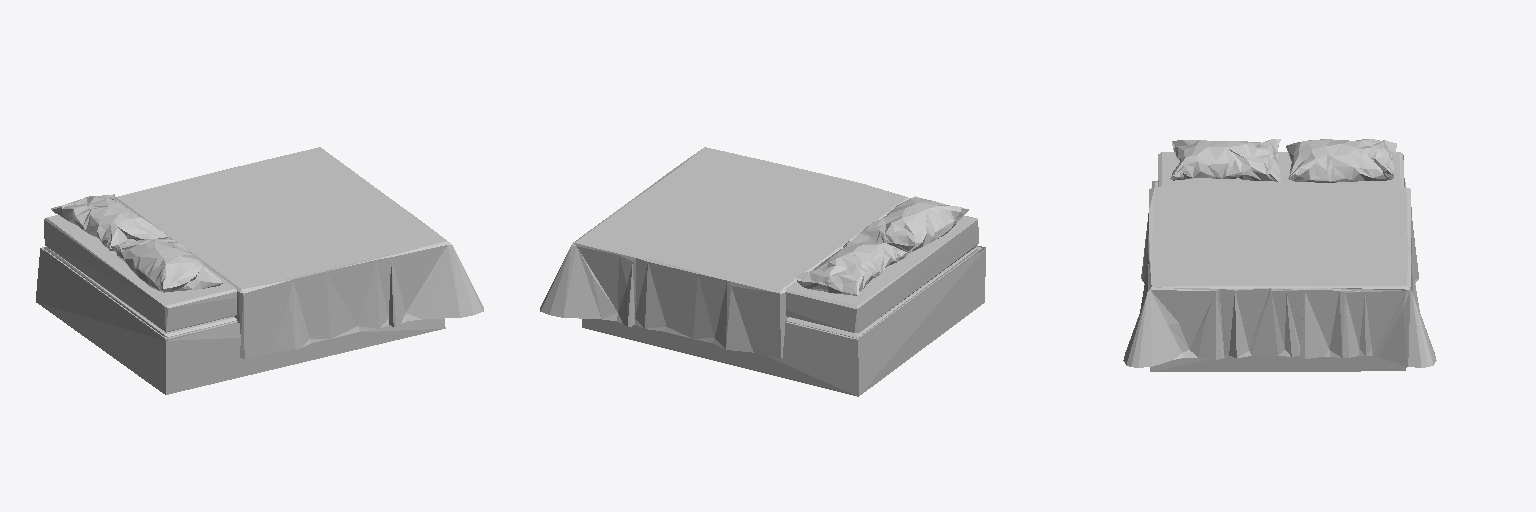
3 renders of one model, left to right at view 1: azimuth 30°, elevation 25°; view 2: azimuth 150°, elevation 25°; view 3: azimuth 270°, elevation 25°, orthographic.
Parts seen in each view (by area): view 1: bed; view 2: bed; view 3: bed.
Boxes of the visible parts, <box> form: bed: <box>36,147,483,394</box>; bed: <box>540,147,985,396</box>; bed: <box>1123,139,1436,371</box>.
Bounding box in the file's own units: 13.92 × 4.74 × 12.13.